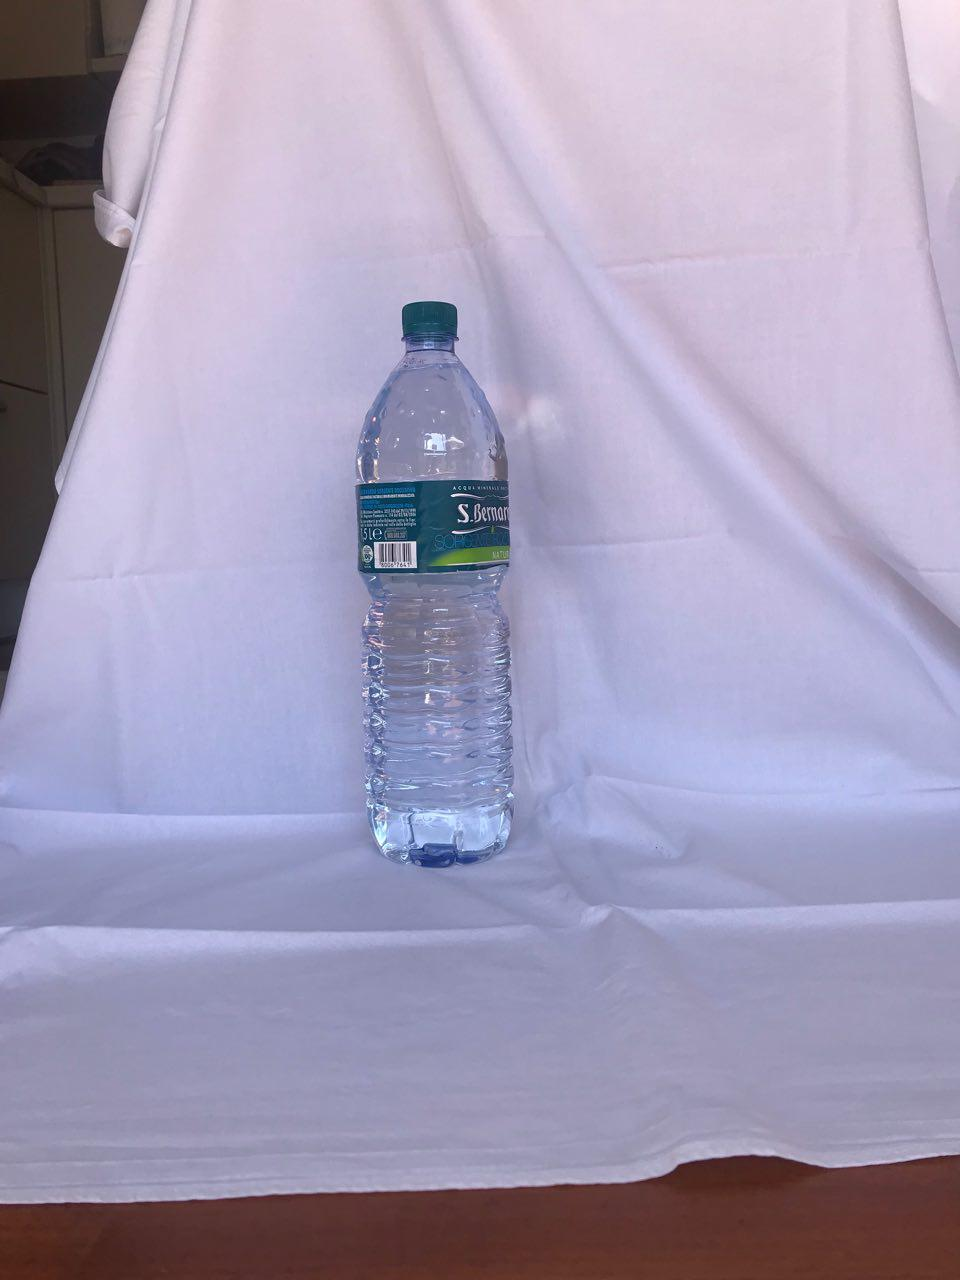san_bernardo: (353, 298, 517, 869)
